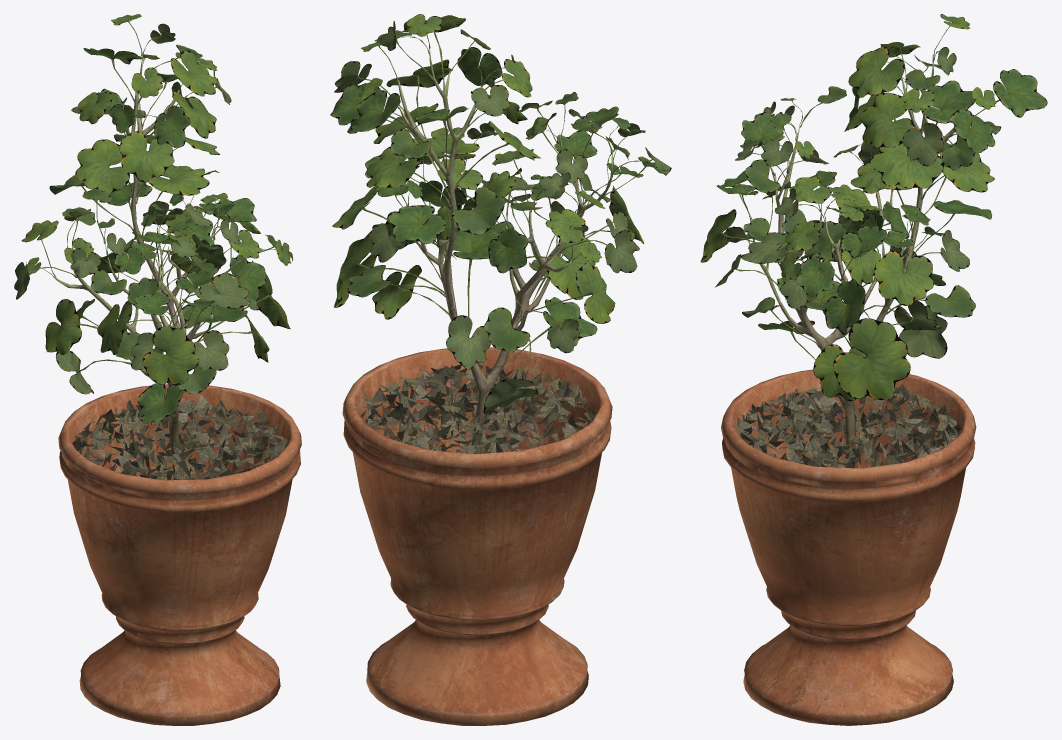
The model's file is flower_urn.glb.
3 views of the same model, side by side, from view 1: azimuth 30°, elevation 25°; view 2: azimuth 150°, elevation 25°; view 3: azimuth 270°, elevation 25° (orthographic). The views are drawn at different scales.
Parts seen in each view (by area): view 1: pot, leaves, pebbles, stem; view 2: pot, leaves, pebbles, stem; view 3: pot, leaves, pebbles, stem.
Boxes of the visible parts, box(x1,y1,x2,y2) form: pot: box(58, 384, 301, 725); leaves: box(14, 14, 292, 423); pebbles: box(72, 395, 287, 480); stem: box(53, 54, 243, 479); pot: box(342, 347, 612, 725); leaves: box(330, 14, 671, 414); pebbles: box(361, 362, 595, 453); stem: box(397, 48, 613, 453); pot: box(721, 369, 976, 725); leaves: box(700, 14, 1047, 400); pebbles: box(736, 384, 961, 468); stem: box(752, 55, 966, 468).
Bounding box in the file's own units: 0.5877 × 1.34 × 0.6346.
2 materials, 2 textured.
